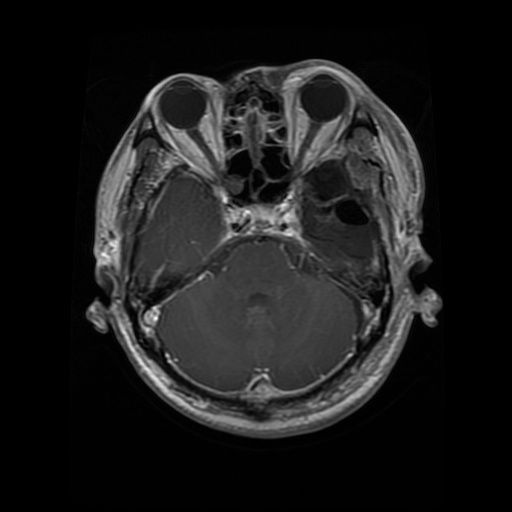glioma: (301, 162, 386, 281)
